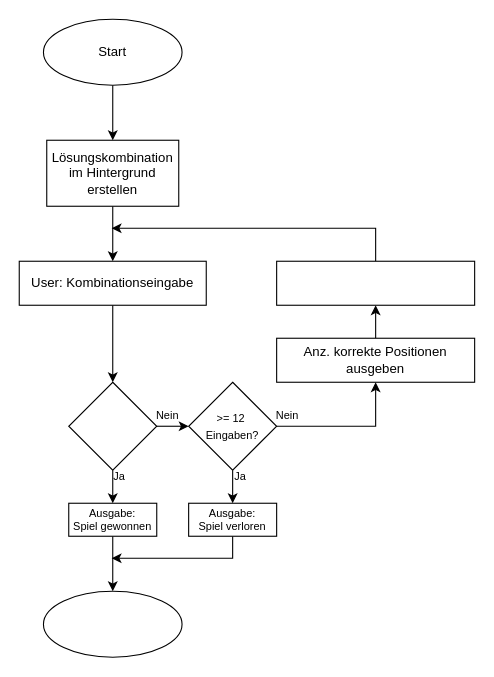
This 494x677 diagram has some shape labels left out. Each missing label, with the box of its shape:
Anz. korrekte Farben ausgeben: (276, 260, 475, 305)
Ende: (42, 590, 182, 657)
korrekt?: (68, 381, 157, 470)
